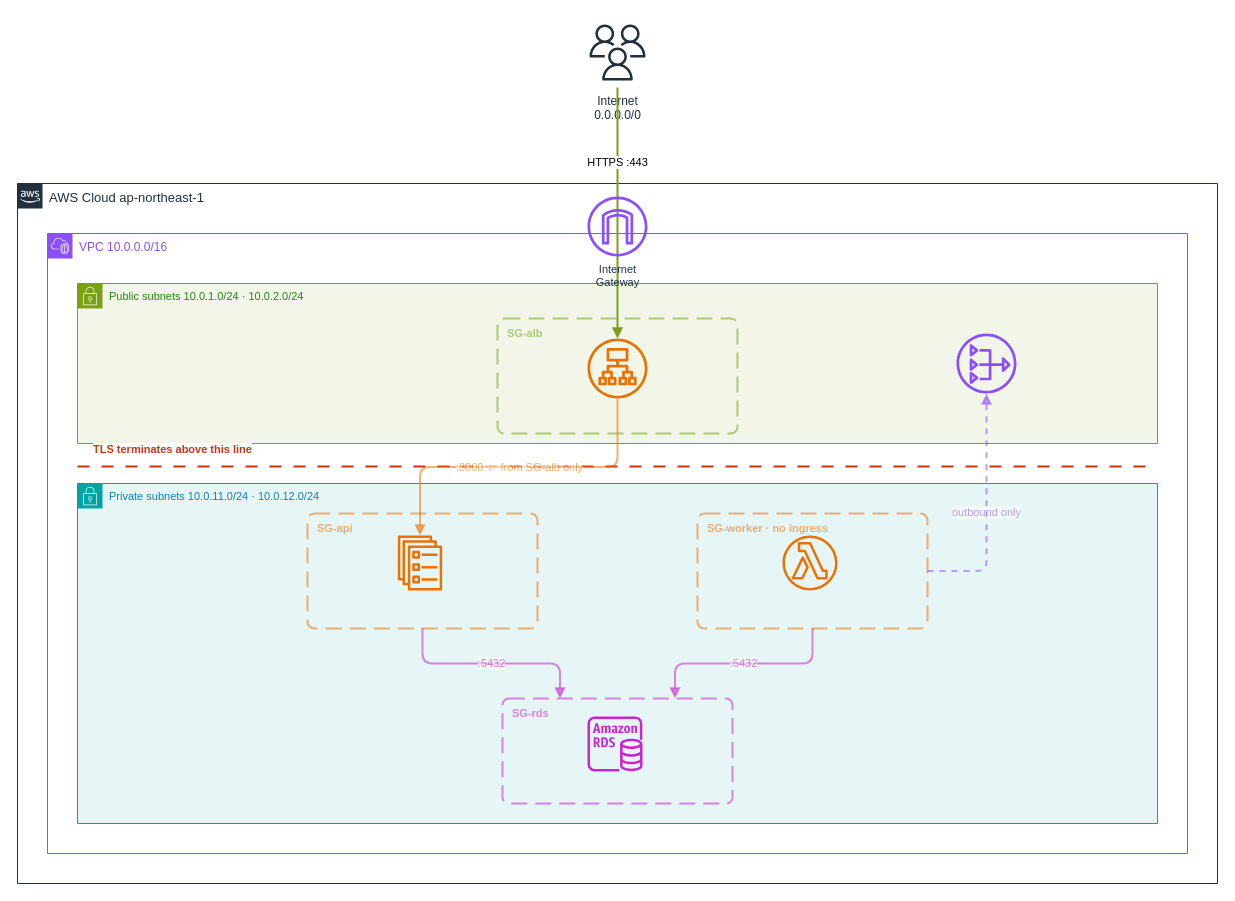
Some shapes in this 1235 by 901 pixel diagram are drawn without their labels. The centre of each missing label's shape, as x and y in pixels:
"api (ECS service)" belongs at [419,562].
"Application Load Balancer" belongs at [617,368].
"NAT Gateway" belongs at [986,363].
"RDS PostgreSQL" belongs at [614,743].
"worker (Lambda)" belongs at [809,562].
